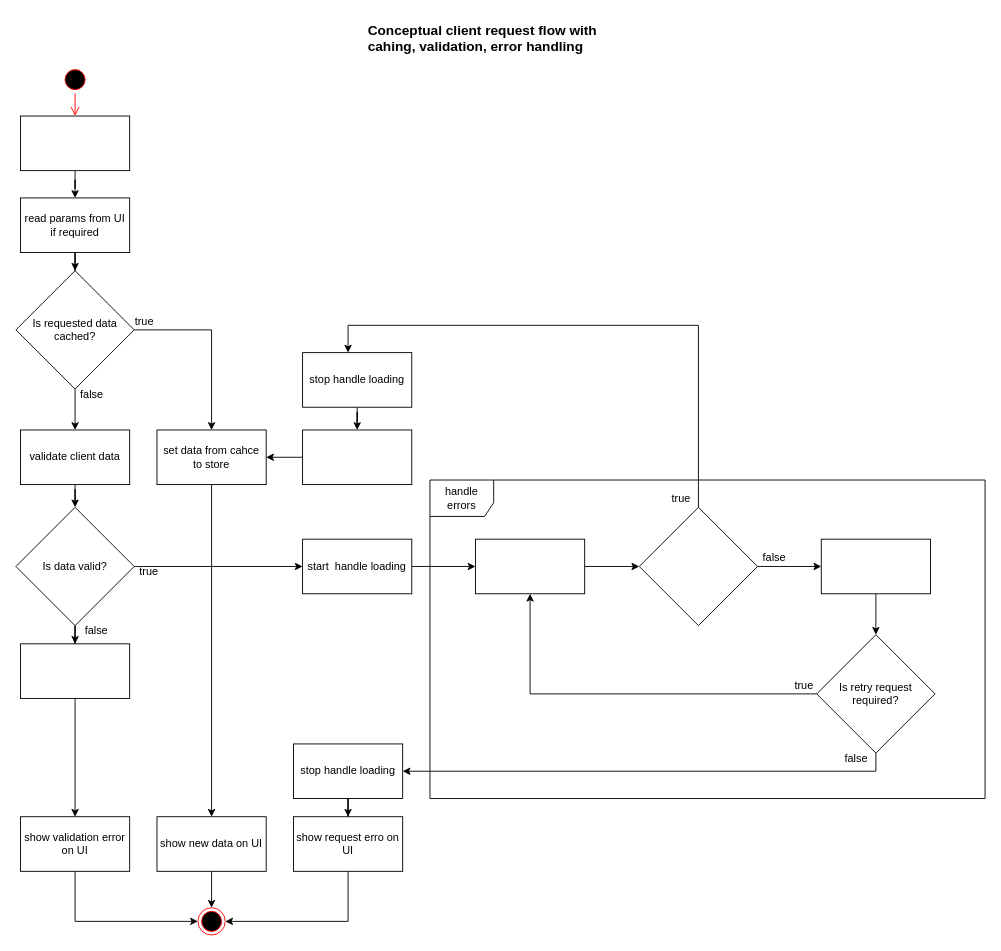
Image size: 1001x951. Some labels were removed from this diagram. The box of each missing label's shape, as (x1, y1, x2, y2) in pixels:
cache data: (302, 429, 412, 485)
Is response status ok?: (638, 506, 758, 626)
log error: (820, 538, 930, 594)
send request with Integrational Service: (475, 538, 585, 594)
set validation error to store: (20, 643, 130, 698)
trigger UI (or component initialization, etc.): (20, 115, 130, 171)
